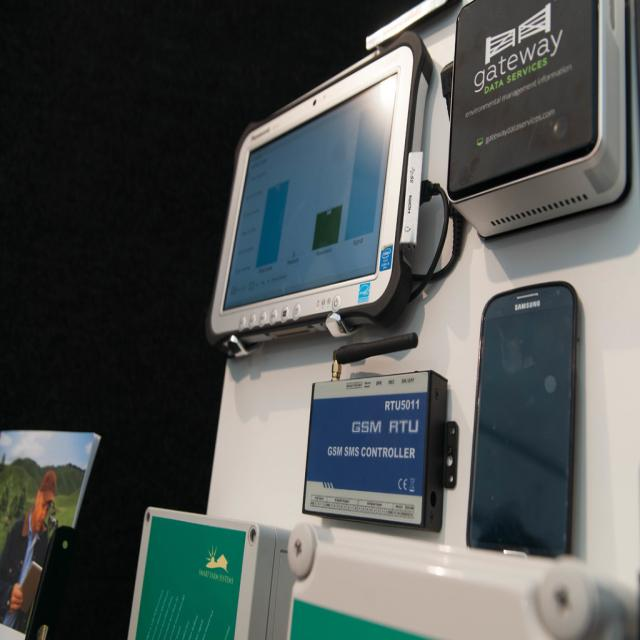Mobile-phone: (479, 282, 578, 562)
